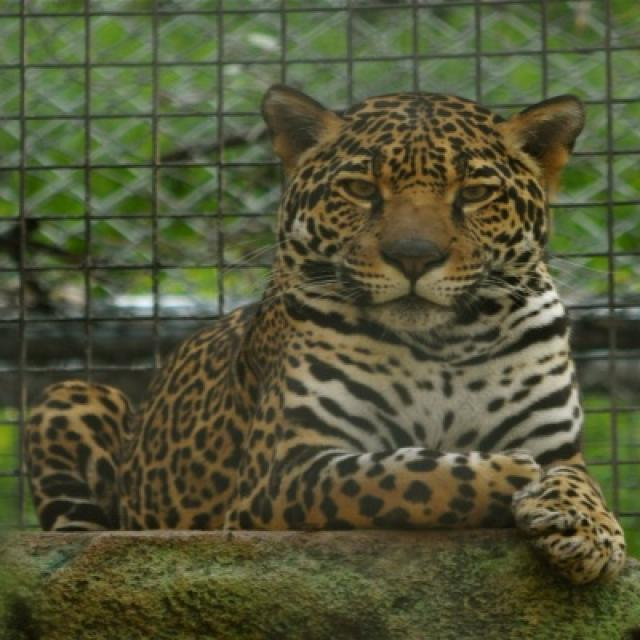Jaguar: (26, 86, 627, 590)
